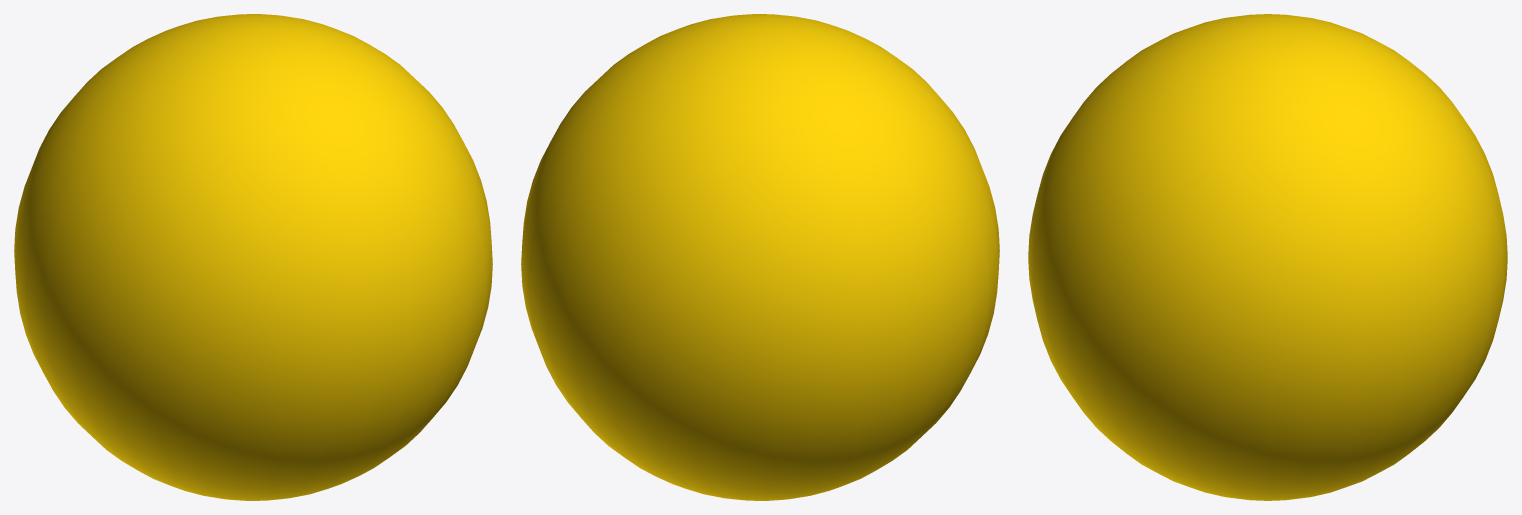
3 views of the same model, side by side, from view 1: azimuth 30°, elevation 25°; view 2: azimuth 150°, elevation 25°; view 3: azimuth 270°, elevation 25° (orthographic).
Visible parts, largest first — view 1: Sphere; view 2: Sphere; view 3: Sphere.
Part boxes in pixels (<box>): Sphere: <box>14,14,492,500</box>; Sphere: <box>521,14,999,500</box>; Sphere: <box>1028,14,1507,500</box>.
Size of the model in its own units: 0.1953 by 0.1953 by 0.1996.
